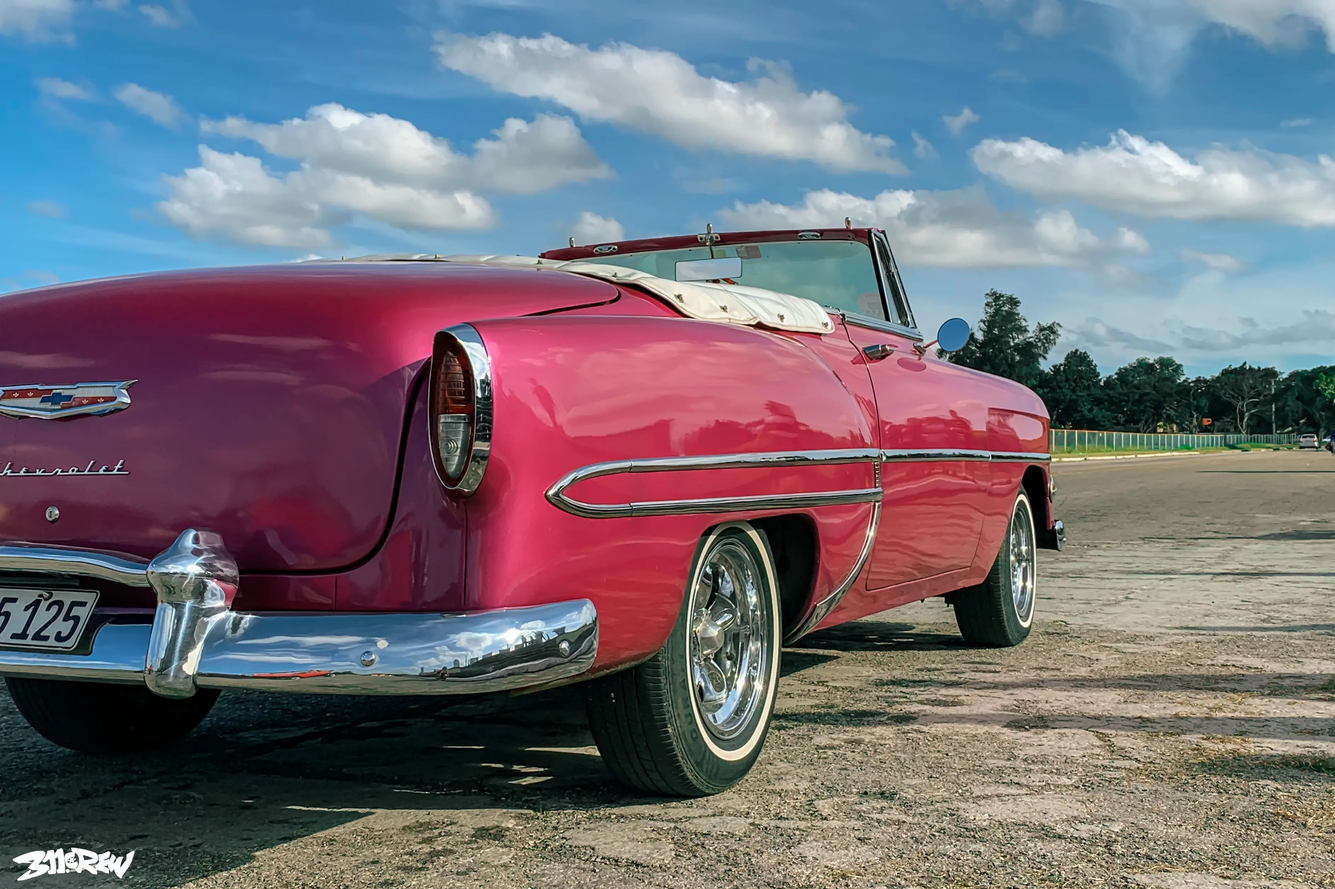other: (0, 226, 1075, 818)
